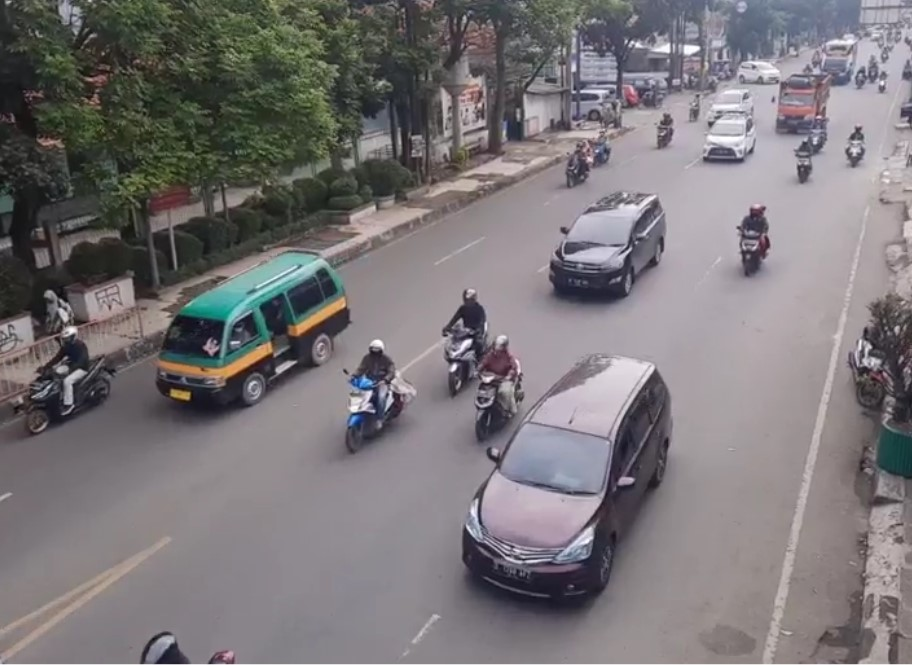motor: (13, 331, 121, 430), (336, 343, 419, 456), (471, 336, 528, 436), (435, 287, 485, 388), (734, 209, 774, 282)
